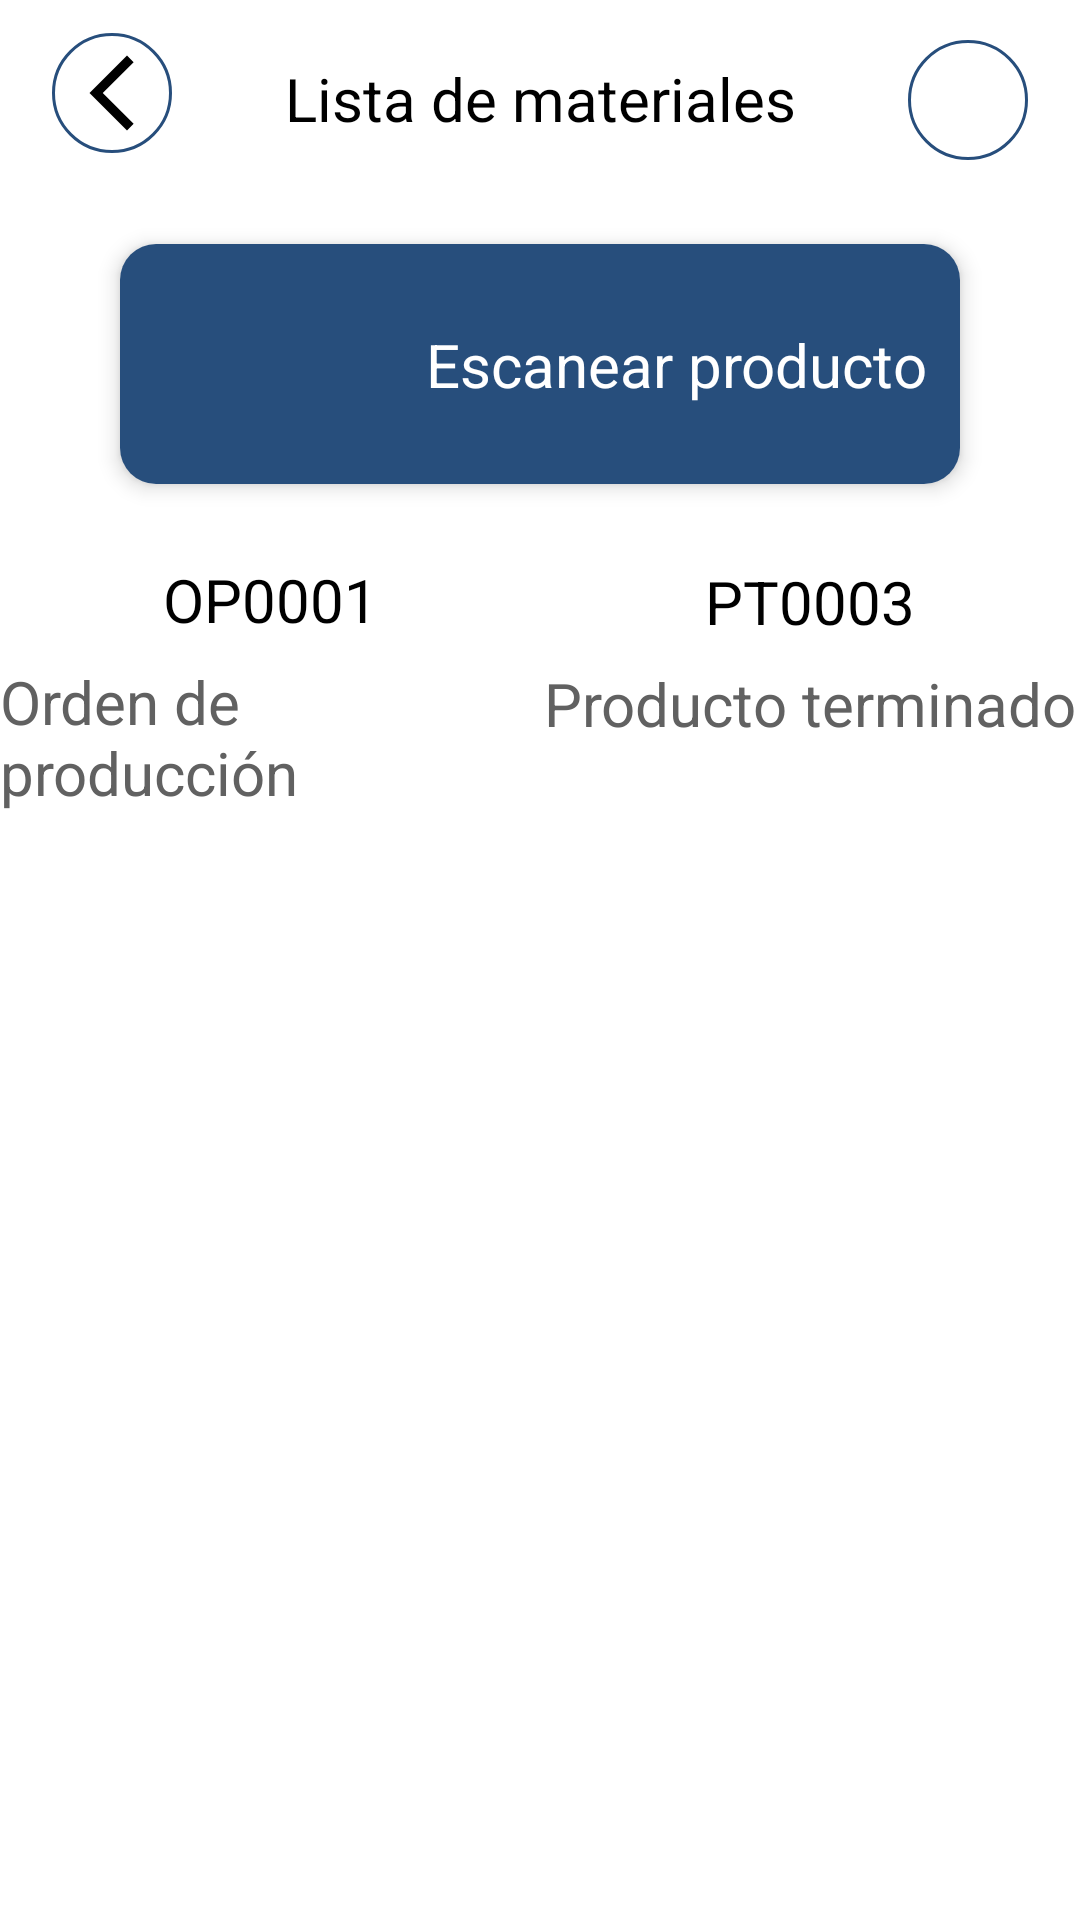

Named icons in this screenshot (1080×1920) and their bounding boxes, rect(x1, y1, x2, y2):
back: rect(52, 33, 172, 153)
